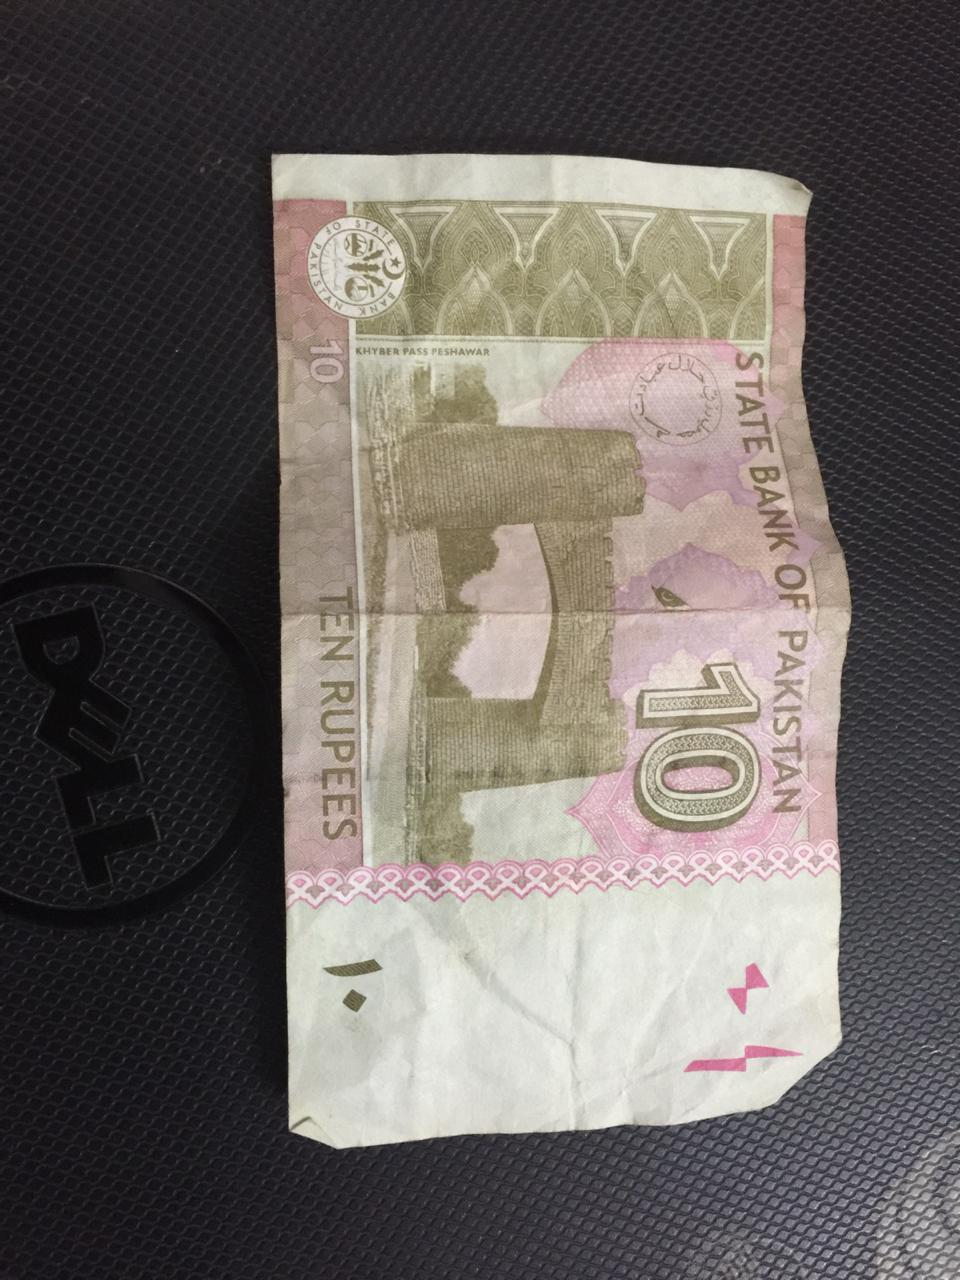10 rupee: (268, 158, 853, 1141)
